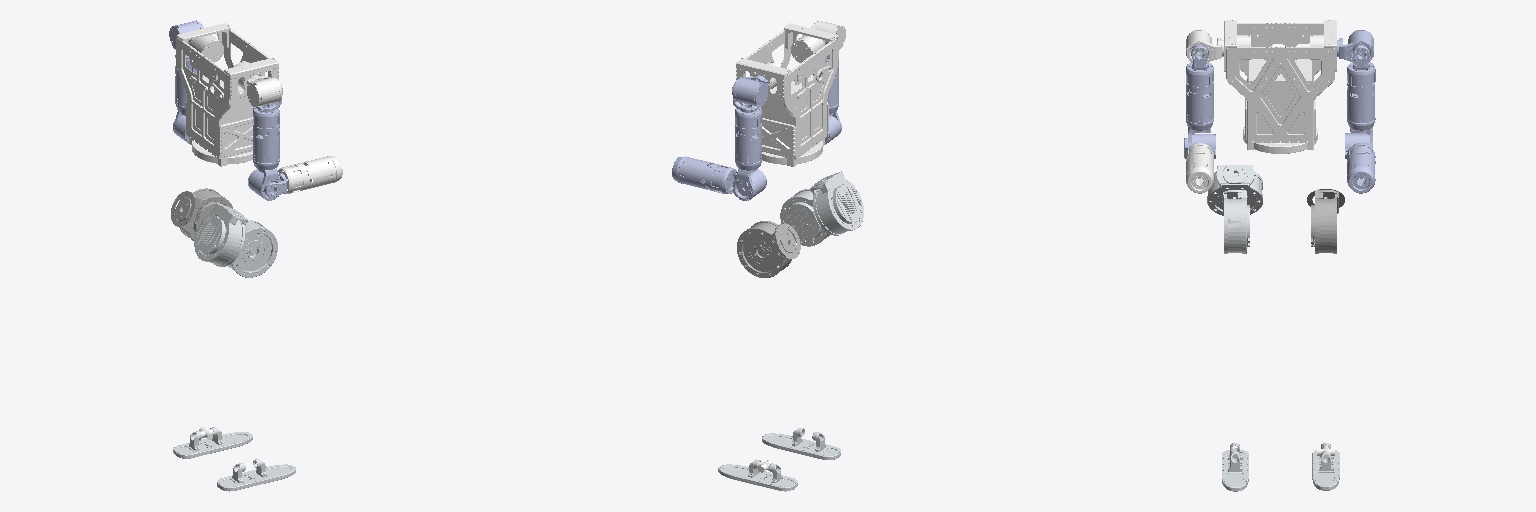
--- What the picture shows (computed from the rendered views, not written in the file) ---
3 views of the same robot in one strip: view 1: azimuth 30°, elevation 25°; view 2: azimuth 150°, elevation 25°; view 3: azimuth 270°, elevation 25° (orthographic).
Robot: atom_urdf_long — 24 links, 23 joints (23 revolute); root link base_link; default pose: every joint at zero.
Visible links, largest first — view 1: torso_link, right_thigh_yaw_link, right_arm_yaw_link, right_thigh_roll_link, left_thigh_roll_link, right_elbow_yaw_link, right_ankle_roll_link, left_ankle_roll_link, right_arm_pitch_link, left_arm_yaw_link; view 2: torso_link, left_thigh_roll_link, right_thigh_yaw_link, left_arm_yaw_link, left_elbow_yaw_link, right_thigh_roll_link, right_ankle_roll_link, left_ankle_roll_link, left_arm_pitch_link, right_arm_yaw_link; view 3: torso_link, left_arm_yaw_link, right_arm_yaw_link, right_thigh_yaw_link, left_thigh_roll_link, right_thigh_roll_link, left_elbow_yaw_link, right_elbow_yaw_link, right_ankle_roll_link, left_ankle_roll_link, right_arm_pitch_link, left_arm_pitch_link.
Boxes of the visible links, x1,y1,x2,y2 form: torso_link: (176, 23, 278, 166); right_thigh_yaw_link: (194, 203, 248, 266); right_arm_yaw_link: (248, 107, 280, 200); right_thigh_roll_link: (228, 220, 277, 277); left_thigh_roll_link: (171, 188, 232, 240); right_elbow_yaw_link: (277, 156, 342, 193); right_ankle_roll_link: (217, 459, 295, 491); left_ankle_roll_link: (173, 427, 252, 458); right_arm_pitch_link: (247, 75, 282, 106); left_arm_yaw_link: (173, 55, 196, 143); torso_link: (736, 23, 838, 166); left_thigh_roll_link: (737, 221, 800, 277); right_thigh_yaw_link: (810, 171, 863, 235); left_arm_yaw_link: (732, 107, 766, 200); left_elbow_yaw_link: (672, 156, 736, 193); right_thigh_roll_link: (780, 189, 830, 246); right_ankle_roll_link: (762, 428, 840, 459); left_ankle_roll_link: (718, 459, 797, 491); left_arm_pitch_link: (733, 75, 767, 106); right_arm_yaw_link: (813, 59, 841, 144); torso_link: (1224, 20, 1336, 153); left_arm_yaw_link: (1345, 62, 1375, 158); right_arm_yaw_link: (1186, 62, 1215, 158); right_thigh_yaw_link: (1207, 165, 1262, 215); left_thigh_roll_link: (1307, 189, 1344, 253); right_thigh_roll_link: (1223, 190, 1249, 253); left_elbow_yaw_link: (1347, 143, 1375, 193); right_elbow_yaw_link: (1186, 143, 1213, 193); right_ankle_roll_link: (1222, 443, 1248, 491); left_ankle_roll_link: (1312, 443, 1339, 490); right_arm_pitch_link: (1186, 30, 1223, 62); left_arm_pitch_link: (1337, 30, 1373, 62).
Size in the robot's own frame: 0.3186 by 0.421 by 1.06 metres.
Meshes: 24 distinct files referenced, 16 mesh visuals loaded (16 binary STL); not drawn: 8 (reference not matched to a file when rendering).

The robot description file, URDF, robot "atom_urdf_long":
<?xml version="1.0" encoding="utf-8"?>
<!-- This URDF was automatically created by SolidWorks to URDF Exporter! Originally created by Stephen Brawner ([email redacted]) 
     Commit Version: 1.6.0-4-g7f85cfe  Build Version: 1.6.7995.38578
     For more information, please see http://wiki.ros.org/sw_urdf_exporter -->
<robot
  name="atom_urdf_long">
  <link
    name="base_link">
   <inertial>
      <origin
        xyz="-0.04893 0 -0.01169"
        rpy="0 0 0" />
      <mass
        value="5.46006" />
      <inertia
        ixx="0.04329056049"
        ixy="-0.00000372920"
        ixz="-0.00147869904"
        iyy="0.01290223906"
        iyz="-0.00000208134"
        izz="0.04099568901" />
    </inertial>
    <visual>
      <origin
        xyz="0 0 0"
        rpy="0 0 0" />
      <geometry>
        <mesh
          filename="./meshes/base_link.STL" />
      </geometry>
      <material
        name="">
        <color
          rgba="0.898039215686275 0.917647058823529 0.929411764705882 1" />
      </material>
    </visual>
    <collision>
      <origin
        xyz="0 0 0"
        rpy="0 0 0" />
      <geometry>
        <mesh
          filename="./meshes/base_link.STL" />
      </geometry>
    </collision>
  </link>
  <link
    name="left_thigh_yaw_link">
   <inertial>
  <origin
    xyz="-0.03810 0 -0.05399"
    rpy="0 0 0" />
  <mass
    value="1.67364" />
  <inertia
    ixx="0.00319855281"
    ixy="-0.00000000774"
    ixz="-0.00072056094"
    iyy="0.00253584400"
    iyz="-0.00000002529"
    izz="0.00249365060" />
</inertial>
    <visual>
      <origin
        xyz="0 0 0"
        rpy="0 0 0" />
      <geometry>
        <mesh
          filename="./meshes/left_thigh_yaw_link.STL" />
      </geometry>
      <material
        name="">
        <color
          rgba="0.792156862745098 0.819607843137255 0.933333333333333 1" />
      </material>
    </visual>
    <!-- <collision>
      <origin
        xyz="0 0 0"
        rpy="0 0 0" />
      <geometry>
        <mesh
          filename="./meshes/left_thigh_yaw_link.STL" />
      </geometry>
    </collision> -->
  </link>
  <joint
    name="left_thigh_yaw_joint"
    type="revolute">
    <origin
      xyz="-0.070843 0.10009 -0.051345"
      rpy="0 0 0" />
    <parent
      link="base_link" />
    <child
      link="left_thigh_yaw_link" />
    <axis
      xyz="-0.5 0 -0.86603" />
 <limit
      lower="-1"
      upper="0.2"
      effort="80"
      velocity="10.47" />
  </joint>
  <link
    name="left_thigh_roll_link">
   <inertial>
  <origin
    xyz="0.05741 -0.00600 -0.03315"
    rpy="0 0 0" />
  <mass
    value="1.67349" />
  <inertia
    ixx="0.00216876959"
    ixy="0.00004755190"
    ixz="0.00021342539"
    iyy="0.00364901288"
    iyz="-0.00002746096"
    izz="0.00241527150" />
</inertial>
    <visual>
      <origin
        xyz="0 0 0"
        rpy="0 0 0" />
      <geometry>
        <mesh
          filename="./meshes/left_thigh_roll_link.STL" />
      </geometry>
      <material
        name="">
        <color
          rgba="0.752941176470588 0.752941176470588 0.752941176470588 1" />
      </material>
    </visual>
    <!-- <collision>
      <origin
        xyz="0 0 0"
        rpy="0 0 0" />
      <geometry>
        <mesh
          filename="./meshes/left_thigh_roll_link.STL" />
      </geometry>
    </collision> -->
  </link>
  <joint
    name="left_thigh_roll_joint"
    type="revolute">
    <origin
      xyz="-0.019425 0 -0.071346"
      rpy="0 0 0" />
    <parent
      link="left_thigh_yaw_link" />
    <child
      link="left_thigh_roll_link" />
    <axis
      xyz="0.86603 0 -0.5" />
    <limit
      lower="-0.2"
      upper="1"
      effort="80"
      velocity="10.47" />
  </joint>
  <link
    name="left_thigh_pitch_link">
   <inertial>
  <origin
    xyz="-0.00006 -0.01781 -0.19802"
    rpy="0 0 0" />
  <mass
    value="2.31922" />
  <inertia
    ixx="0.02007134402"
    ixy="-0.00000000137"
    ixz="-0.00000000313"
    iyy="0.02144913868"
    iyz="-0.00217970734"
    izz="0.00298030651" />
</inertial>
    <visual>
      <origin
        xyz="0 0 0"
        rpy="0 0 0" />
      <geometry>
        <mesh
          filename="./meshes/left_thigh_pitch_link.STL" />
      </geometry>
      <material
        name="">
        <color
          rgba="0.898039215686275 0.917647058823529 0.929411764705882 1" />
      </material>
    </visual>
  <collision>
      <origin
        xyz="0.0 0 -0.08"
        rpy="0 0 0" />
      <geometry>
        <box name="left_thigh_pitch_link" size="0.08 0.1 0.22"/>
      </geometry>
    </collision>
  </link>
  <joint
    name="left_thigh_pitch_joint"
    type="revolute">
    <origin
      xyz="0.0623538151339522 0.0193500079963393 -0.0360000241422042"
      rpy="0 0 0" />
    <parent
      link="left_thigh_roll_link" />
    <child
      link="left_thigh_pitch_link" />
    <axis
      xyz="0 1 0" />
    <limit
      lower="-1"
      upper="1"
      effort="80"
      velocity="10.47"/>
  </joint>
  <link
    name="left_knee_link">
   <inertial>
  <origin
    xyz="-0.00035 -0.01141 -0.15459"
    rpy="0 0 0" />
  <mass
    value="1.73050" />
  <inertia
    ixx="0.01090402337"
    ixy="0.00002096199"
    ixz="0.00003595470"
    iyy="0.01057709835"
    iyz="-0.00014644364"
    izz="0.00111782944" />
</inertial>
    <visual>
      <origin
        xyz="0 0 0"
        rpy="0 0 0" />
      <geometry>
        <mesh
          filename="./meshes/left_knee_link.STL" />
      </geometry>
      <material
        name="">
        <color
          rgba="0.898039215686275 0.917647058823529 0.929411764705882 1" />
      </material>
    </visual>
     <collision>
      <origin
        xyz="0.0 0 -0.15"
        rpy="0 0 0" />
      <geometry>
        <box name="left_knee_link" size="0.08 0.08 0.22"/>
      </geometry>
    </collision>
  </link>
  <joint
    name="left_knee_joint"
    type="revolute">
    <origin
      xyz="-5.71909387963032E-05 0 -0.249999999984666"
      rpy="0 0 0" />
    <parent
      link="left_thigh_pitch_link" />
    <child
      link="left_knee_link" />
    <axis
      xyz="0 1 0" />
    <limit
       lower="-0.2"
      upper="2.5"
      effort="80"
      velocity="10.47" />
  </joint>
  <link
    name="left_ankle_pitch_link">
   <inertial>
  <origin
    xyz="-0.02000 0 0"
    rpy="0 0 0" />
  <mass
    value="0.08400" />
  <inertia
    ixx="0.00000863055"
    ixy="0.00000000000"
    ixz="-0.00000000011"
    iyy="0.00000863055"
    iyz="0.00000000010"
    izz="0.00001447610" />
  </inertial>
    <visual>
      <origin
        xyz="0 0 0"
        rpy="0 0 0" />
      <geometry>
        <mesh
          filename="./meshes/left_ankle_pitch_link.STL" />
      </geometry>
      <material
        name="">
        <color
          rgba="1 1 1 1" />
      </material>
    </visual>
    <!-- <collision>
      <origin
        xyz="0 0 0"
        rpy="0 0 0" />
      <geometry>
        <mesh
          filename="./meshes/left_ankle_pitch_link.STL" />
      </geometry>
    </collision> -->
  </link>
  <joint
    name="left_ankle_pitch_joint"
    type="revolute">
    <origin
      xyz="0.0199999999548295 -0.0193500000002206 -0.300000000002996"
      rpy="0 0 0" />
    <parent
      link="left_knee_link" />
    <child
      link="left_ankle_pitch_link" />
    <axis
      xyz="0 1 0" />
    <limit
       lower="-0.6"
      upper="0.6"
      effort="18"
      velocity="3.7692"/>
  </joint>
  <link
    name="left_ankle_roll_link">
    <inertial>
  <origin
    xyz="-0.00869 0 -0.02743"
    rpy="0 0 0" />
  <mass
    value="0.20002" />
  <inertia
    ixx="0.00007950030"
    ixy="0.00000000210"
    ixz="0.00001015286"
    iyy="0.00052803619"
    iyz="-0.00000000023"
    izz="0.00056895061" />
</inertial>
    <visual>
      <origin
        xyz="0 0 0"
        rpy="0 0 0" />
      <geometry>
        <mesh
          filename="./meshes/left_ankle_roll_link.STL" />
      </geometry>
      <material
        name="">
        <color
          rgba="0.898039215686275 0.917647058823529 0.929411764705882 1" />
      </material>
    </visual>
    <collision>
      <origin
        xyz="0 0 0"
        rpy="0 0 0" />
      <geometry>
        <mesh
          filename="./meshes/left_ankle_roll_link.STL" />
      </geometry>
    </collision>
  </link>
  <joint
    name="left_ankle_roll_joint"
    type="revolute">
    <origin
      xyz="0 0 0"
      rpy="0 0 0" />
    <parent
      link="left_ankle_pitch_link" />
    <child
      link="left_ankle_roll_link" />
    <axis
      xyz="1 0 0" />
    <limit
      lower="-0.5"
      upper="0.5"
      effort="18"
      velocity="3.7692" />
  </joint>
  <link
    name="right_thigh_yaw_link">
   <inertial>
  <origin
    xyz="-0.03785 0 -0.05356"
    rpy="0 0 0" />
  <mass
    value="1.67349" />
  <inertia
    ixx="0.00319822705"
    ixy="-0.00000000774"
    ixz="-0.00072024725"
    iyy="0.00253514063"
    iyz="-0.00000002529"
    izz="0.00249301189" />
</inertial>
    <visual>
      <origin
        xyz="0 0 0"
        rpy="0 0 0" />
      <geometry>
        <mesh
          filename="./meshes/right_thigh_yaw_link.STL" />
      </geometry>
      <material
        name="">
        <color
          rgba="0.898039215686275 0.917647058823529 0.929411764705882 1" />
      </material>
    </visual>
    <!-- <collision>
      <origin
        xyz="0 0 0"
        rpy="0 0 0" />
      <geometry>
        <mesh
          filename="./meshes/right_thigh_yaw_link.STL" />
      </geometry>
    </collision> -->
  </link>
  <joint
    name="right_thigh_yaw_joint"
    type="revolute">
    <origin
      xyz="-0.071093 -0.099911 -0.051778"
      rpy="0 0 0" />
    <parent
      link="base_link" />
    <child
      link="right_thigh_yaw_link" />
    <axis
      xyz="-0.5 0 -0.86603" />
    <limit
       lower="-0.2"
      upper="1"
      effort="80"
      velocity="10.47" />
  </joint>
  <link
    name="right_thigh_roll_link">
    <inertial>
  <origin
    xyz="0.05698 0.00600 -0.03290"
    rpy="0 0 0" />
  <mass
    value="1.67349" />
  <inertia
    ixx="0.00216881421"
    ixy="-0.00004755784"
    ixz="0.00021345115"
    iyy="0.00364901288"
    iyz="0.00002745068"
    izz="0.00241522687" />
</inertial>
    <visual>
      <origin
        xyz="0 0 0"
        rpy="0 0 0" />
      <geometry>
        <mesh
          filename="./meshes/right_thigh_roll_link.STL" />
      </geometry>
      <material
        name="">
        <color
          rgba="0.898039215686275 0.917647058823529 0.929411764705882 1" />
      </material>
    </visual>
    <!-- <collision>
      <origin
        xyz="0 0 0"
        rpy="0 0 0" />
      <geometry>
        <mesh
          filename="./meshes/right_thigh_roll_link.STL" />
      </geometry>
    </collision> -->
  </link>
  <joint
    name="right_thigh_roll_joint"
    type="revolute">
    <origin
      xyz="-0.018742408447476 0 -0.0711628036658393"
      rpy="0 0 0" />
    <parent
      link="right_thigh_yaw_link" />
    <child
      link="right_thigh_roll_link" />
    <axis
      xyz="0.866025403709328 0 -0.500000000130096" />
    <limit
      lower="-1"
      upper="0.2"
      effort="80"
      velocity="10.47"/>
  </joint>
  <link
    name="right_thigh_pitch_link">
    <inertial>
  <origin
    xyz="0.00000 0.01781 -0.19802"
    rpy="0 0 0" />
  <mass
    value="2.31922" />
  <inertia
    ixx="0.02007134402"
    ixy="-0.00000000137"
    ixz="0.00000000313"
    iyy="0.02144913868"
    iyz="0.00217970734"
    izz="0.00298030651" />
</inertial>
    <visual>
      <origin
        xyz="0 0 0"
        rpy="0 0 0" />
      <geometry>
        <mesh
          filename="./meshes/right_thigh_pitch_link.STL" />
      </geometry>
      <material
        name="">
        <color
          rgba="0.898039215686275 0.917647058823529 0.929411764705882 1" />
      </material>
    </visual>
     <collision>
      <origin
        xyz="0.0 0 -0.08"
        rpy="0 0 0" />
      <geometry>
        <box name="right_thigh_pitch_link" size="0.08 0.1 0.22"/>
      </geometry>
    </collision>
  </link>
  <joint
    name="right_thigh_pitch_joint"
    type="revolute">
    <origin
      xyz="0.0619208163651855 -0.0193500000000049 -0.0357500000093318"
      rpy="0 0 0" />
    <parent
      link="right_thigh_roll_link" />
    <child
      link="right_thigh_pitch_link" />
    <axis
      xyz="0 1 0" />
    <limit
      lower="-1"
      upper="1"
      effort="80"
      velocity="10.47"/>
  </joint>
  <link
    name="right_knee_link">
  <inertial>
  <origin
    xyz="-0.00034 0.01141 -0.15001"
    rpy="0 0 0" />
  <mass
    value="1.74926" />
  <inertia
    ixx="0.01208353465"
    ixy="-0.00002097159"
    ixz="0.00002792883"
    iyy="0.01179278549"
    iyz="0.00024593306"
    izz="0.00113580864" />
</inertial>
    <visual>
      <origin
        xyz="0 0 0"
        rpy="0 0 0" />
      <geometry>
        <mesh
          filename="./meshes/right_knee_link.STL" />
      </geometry>
      <material
        name="">
        <color
          rgba="0.898039215686275 0.917647058823529 0.929411764705882 1" />
      </material>
    </visual>
       <collision>
      <origin
        xyz="0.0 0 -0.15"
        rpy="0 0 0" />
      <geometry>
        <box name="right_knee_link" size="0.08 0.08 0.22"/>
      </geometry>
    </collision>
  </link>
  <joint
    name="right_knee_joint"
    type="revolute">
    <origin
      xyz="0 0 -0.249999999984727"
      rpy="0 0 0" />
    <parent
      link="right_thigh_pitch_link" />
    <child
      link="right_knee_link" />
    <axis
      xyz="0 1 0" />
    <limit
       lower="-0.2"
      upper="2.5"
      effort="80"
      velocity="10.47" />
  </joint>
  <link
    name="right_ankle_pitch_link">
    <inertial>
  <origin
    xyz="-0.02000 0 0"
    rpy="0 0 0" />
  <mass
    value="0.08400" />
  <inertia
    ixx="0.00000863055"
    ixy="0.00000000000"
    ixz="0.00000000011"
    iyy="0.00000863055"
    iyz="-0.00000000010"
    izz="0.00001447610" />
</inertial>
    <visual>
      <origin
        xyz="0 0 0"
        rpy="0 0 0" />
      <geometry>
        <mesh
          filename="./meshes/right_ankle_pitch_link.STL" />
      </geometry>
      <material
        name="">
        <color
          rgba="1 1 1 1" />
      </material>
    </visual>
    <!-- <collision>
      <origin
        xyz="0 0 0"
        rpy="0 0 0" />
      <geometry>
        <mesh
          filename="./meshes/right_ankle_pitch_link.STL" />
      </geometry>
    </collision> -->
  </link>
  <joint
    name="right_ankle_pitch_joint"
    type="revolute">
    <origin
      xyz="0.019999999955032 0.0193499999997858 -0.300000000003003"
      rpy="0 0 0" />
    <parent
      link="right_knee_link" />
    <child
      link="right_ankle_pitch_link" />
    <axis
      xyz="0 1 0" />
    <limit
     lower="-0.6"
      upper="0.6"
      effort="18"
      velocity="3.7692" />
  </joint>
  <link
    name="right_ankle_roll_link">
    <inertial>
  <origin
    xyz="-0.00869 0 -0.02894"
    rpy="0 0 0" />
  <mass
    value="0.20002" />
  <inertia
    ixx="0.00008235737"
    ixy="0.00000000210"
    ixz="0.00001125978"
    iyy="0.00053089326"
    iyz="-0.00000000024"
    izz="0.00056895061" />
</inertial>
    <visual>
      <origin
        xyz="0 0 0"
        rpy="0 0 0" />
      <geometry>
        <mesh
          filename="./meshes/right_ankle_roll_link.STL" />
      </geometry>
      <material
        name="">
        <color
          rgba="0.898039215686275 0.917647058823529 0.929411764705882 1" />
      </material>
    </visual>
    <collision>
      <origin
        xyz="0 0 0"
        rpy="0 0 0" />
      <geometry>
        <mesh
          filename="./meshes/right_ankle_roll_link.STL" />
      </geometry>
    </collision>
  </link>
  <joint
    name="right_ankle_roll_joint"
    type="revolute">
    <origin
      xyz="0 0 0"
      rpy="0 0 0" />
    <parent
      link="right_ankle_pitch_link" />
    <child
      link="right_ankle_roll_link" />
    <axis
      xyz="1 0 0" />
    <limit
      lower="-0.5"
      upper="0.5"
      effort="18"
      velocity="3.7692" />
  </joint>
 <link
    name="torso_link">
    <inertial>
      <origin
        xyz=" -0.00232713 -0.00003499 0.09671181"
        rpy="0 0 0" />
      <mass
        value="7.70005232 " />
       <inertia ixx="0.14285885" ixy="-0.00004101" ixz="0.00400640"
           iyy="0.13043257" iyz="0.00003257"
           izz="0.03968469"/>
    </inertial>
    <visual>
      <origin
        xyz="0 0 0"
        rpy="0 0 0" />
      <geometry>
        <mesh
          filename="./meshes/torso_link.STL" />
      </geometry>
      <material
        name="">
        <color
          rgba="1 1 1 1" />
      </material>
    </visual>
    <collision>
      <origin
        xyz="0 0 0.13"
        rpy="0 0 0" />
      <geometry>
        <box name="torso_link" size="0.16 0.16 0.22"/>
      </geometry>
    </collision>
  </link>
  <joint
    name="torso_joint"
    type="revolute">
    <origin
      xyz="-0.0281649492242451 0 0.0672000000054882"
      rpy="0 0 0" />
    <parent
      link="base_link" />
    <child
      link="torso_link" />
    <axis
      xyz="0 0 1" />
    <limit
      lower="-3.14"
      upper="3.14"
      effort="80"
      velocity="10.47" />
  </joint>
  <link
    name="left_arm_pitch_link">
    <inertial>
    <mass value="0.47178757"/>
    <origin xyz="-0.00442275 0.04993792 0.00005596" rpy="0 0 0"/>
    <inertia ixx="0.00133228" ixy="0.00012643" ixz="-0.00000056"
             iyy="0.00008982" iyz="-0.00000148"
             izz="0.00137408"/>
    </inertial>
    <visual>
      <origin
        xyz="0 0 0"
        rpy="0 0 0" />
      <geometry>
        <mesh
          filename="./meshes/left_arm_pitch_link.STL" />
      </geometry>
      <material
        name="">
        <color
          rgba="0.796078431372549 0.823529411764706 0.937254901960784 1" />
      </material>
    </visual>
    <collision>
      <origin
        xyz="0 0.055 0"
        rpy="0 1.57 0" />
      <geometry>
         <cylinder radius="0.03" length="0.05"/>
      </geometry>
    </collision>
  </link>
  <joint
    name="left_arm_pitch_joint"
    type="revolute">
    <origin
      xyz="0 0.121749999999383 0.206175860782433"
      rpy="0 0 0" />
    <parent
      link="torso_link" />
    <child
      link="left_arm_pitch_link" />
    <axis
      xyz="0 1 0" />
    <limit
      lower="-3.14"
      upper="1.57"
      effort="18"
      velocity="3.7692" />
  </joint>
  <link
    name="left_arm_roll_link">
    <inertial>
      <origin
        xyz="-0.00433076 0 -0.02378501"
        rpy="0 0 0" />
      <mass
        value="0.09168685" />
     <inertia ixx="0.00010210" ixy="0.0" ixz="-0.00002948"
           iyy="0.00011636" iyz="0.0"
           izz="0.00003231"/>
    </inertial>
    <visual>
      <origin
        xyz="0 0 0"
        rpy="0 0 0" />
      <geometry>
        <mesh
          filename="./meshes/left_arm_roll_link.STL" />
      </geometry>
      <material
        name="">
        <color
          rgba="0.796078431372549 0.823529411764706 0.937254901960784 1" />
      </material>
    </visual>
    <collision>
      <origin
        xyz="-0.02 0 -0.12"
        rpy="0 0 0" />
      <geometry>
         <cylinder radius="0.03" length="0.10"/>
      </geometry>
    </collision>
  </link>
  <joint
    name="left_arm_roll_joint"
    type="revolute">
    <origin
      xyz="0.0200000000000018 0.056 0"
      rpy="0 0 0" />
    <parent
      link="left_arm_pitch_link" />
    <child
      link="left_arm_roll_link" />
    <axis
      xyz="1 0 0" />
    <limit
      lower="-0.25"
      upper="3.14"
      effort="18"
      velocity="3.7692" />
  </joint>
  <link
    name="left_arm_yaw_link">
    <inertial>
    <mass value="1.15324429"/>
    <origin xyz="-0.00004328 -0.00182110 -0.10615897" rpy="0 0 0"/>
    <inertia ixx="0.01919610" ixy="-0.00000011" ixz="-0.00000607"
             iyy="0.01915491" iyz="-0.00040415"
             izz="0.00033463"/>
    </inertial>
    <visual>
      <origin
        xyz="0 0 0"
        rpy="0 0 0" />
      <geometry>
        <mesh
          filename="./meshes/left_arm_yaw_link.STL" />
      </geometry>
      <material
        name="">
        <color
          rgba="0.796078431372549 0.823529411764706 0.937254901960784 1" />
      </material>
    </visual>
    <collision>
      <origin
        xyz="0 0 -0.19"
        rpy="0 1.57 1.57" />
      <geometry>
        <cylinder radius="0.03" length="0.05"/>
      </geometry>
    </collision>
  </link>
  <joint
    name="left_arm_yaw_joint"
    type="revolute">
    <origin
      xyz="-0.0200000000000002 0 -0.049999999999998"
      rpy="0 0 0" />
    <parent
      link="left_arm_roll_link" />
    <child
      link="left_arm_yaw_link" />
    <axis
      xyz="0 0 -1" />
    <limit
      lower="-1.57"
      upper="1.57"
      effort="18"
      velocity="3.7692" />
  </joint>
  <link
    name="left_elbow_pitch_link">
    <inertial>
      <origin
        xyz="0.02378501 -0.00433076  0.00000000"
        rpy="0 0 0" />
      <mass
        value="0.09168685" />
       <inertia ixx="0.00003231" ixy="0.00002948" ixz="0.0"
           iyy="0.00010210" iyz="0.0"
           izz="0.00011636"/>
    </inertial>
    <visual>
      <origin
        xyz="0 0 0"
        rpy="0 0 0" />
      <geometry>
        <mesh
          filename="./meshes/left_elbow_pitch_link.STL" />
      </geometry>
      <material
        name="">
        <color
          rgba="0.796078431372549 0.823529411764706 0.937254901960784 1" />
      </material>
    </visual>
    <collision>
      <origin
        xyz="0.10 -0.02 0"
        rpy="0 1.57 0" />
      <geometry>
          <cylinder radius="0.03" length="0.10"/>
      </geometry>
    </collision>
  </link>
  <joint
    name="left_elbow_pitch_joint"
    type="revolute">
    <origin
      xyz="0 0.0199999999999982 -0.188749999999997"
      rpy="0 0 0" />
    <parent
      link="left_arm_yaw_link" />
    <child
      link="left_elbow_pitch_link" />
    <axis
      xyz="0 1 0" />
    <limit
      lower="-0.6"
      upper="1.57"
      effort="18"
      velocity="3.7692" />
  </joint>
  <link
    name="left_elbow_yaw_link">
    <inertial>
    <mass value="0.68145673"/>
    <origin xyz="0.05317629 -0.00003450 -0.00001992" rpy="0 0 0"/>
    <inertia ixx="0.00024481" ixy="0.00000117" ixz="0.00000058"
             iyy="0.00325259" iyz="-0.00000060"
             izz="0.00325345"/>
    </inertial>
    <visual>
      <origin
        xyz="0 0 0"
        rpy="0 0 0" />
      <geometry>
        <mesh
          filename="./meshes/left_elbow_yaw_link.STL" />
      </geometry>
      <material
        name="">
        <color
          rgba="0.796078431372549 0.823529411764706 0.937254901960784 1" />
      </material>
    </visual>
    <!-- <collision>
      <origin
        xyz="0 0 0"
        rpy="0 0 0" />
      <geometry>
        <mesh
          filename="./meshes/left_elbow_yaw_link.STL" />
      </geometry>
    </collision> -->
  </link>
  <joint
    name="left_elbow_yaw_joint"
    type="revolute">
    <origin
      xyz="0.0499999999999968 -0.0199999999999994 0"
      rpy="0 0 0" />
    <parent
      link="left_elbow_pitch_link" />
    <child
      link="left_elbow_yaw_link" />
    <axis
      xyz="1 0 0" />
    <limit
      lower="-1.57"
      upper="1.57"
      effort="18"
      velocity="3.7692" />
  </joint>
  <link
    name="right_arm_pitch_link">
    <inertial>
    <mass value="0.47178757"/>
    <origin xyz="-0.00442275 -0.04993792 0.00005596" rpy="0 0 0"/>
    <inertia ixx="0.00133228" ixy="-0.00012643" ixz="-0.00000056"
             iyy="0.00008982" iyz="0.00000148"
             izz="0.00137408"/>
    </inertial>
    <visual>
      <origin
        xyz="0 0 0"
        rpy="0 0 0" />
      <geometry>
        <mesh
          filename="./meshes/right_arm_pitch_link.STL" />
      </geometry>
      <material
        name="">
        <color
          rgba="1 1 1 1" />
      </material>
    </visual>
    <collision>
      <origin
        xyz="0 -0.055 0"
        rpy="0 1.57 0" />
      <geometry>
         <cylinder radius="0.03" length="0.05"/>
      </geometry>
    </collision>
  </link>
  <joint
    name="right_arm_pitch_joint"
    type="revolute">
    <origin
      xyz="0 -0.121750000000346 0.206175860781721"
      rpy="0 0 0" />
    <parent
      link="torso_link" />
    <child
      link="right_arm_pitch_link" />
    <axis
      xyz="0 1 0" />
    <limit
      lower="-3.14"
      upper="1.57"
      effort="18"
      velocity="3.7692" />
  </joint>
  <link
    name="right_arm_roll_link">
    <inertial>
      <origin
        xyz="-0.00433076 0.00000000  -0.02378501"
        rpy="0 0 0" />
      <mass
        value="0.09168685" />
 <inertia ixx="0.00010210" ixy="0.0" ixz="-0.00002948"
           iyy="0.00011636" iyz="0.0"
           izz="0.00003231"/>
    </inertial>
    <visual>
      <origin
        xyz="0 0 0"
        rpy="0 0 0" />
      <geometry>
        <mesh
          filename="./meshes/right_arm_roll_link.STL" />
      </geometry>
      <material
        name="">
        <color
          rgba="0.796078431372549 0.823529411764706 0.937254901960784 1" />
      </material>
    </visual>
     <collision>
      <origin
        xyz="-0.02 0 -0.12"
        rpy="0 0 0" />
      <geometry>
         <cylinder radius="0.03" length="0.10"/>
      </geometry>
    </collision>
  </link>
  <joint
    name="right_arm_roll_joint"
    type="revolute">
    <origin
      xyz="0.0200000000000407 -0.056 0"
      rpy="0 0 0" />
    <parent
      link="right_arm_pitch_link" />
    <child
      link="right_arm_roll_link" />
    <axis
      xyz="1 0 0" />
    <limit
      lower="-3.14"
      upper="0.25"
      effort="18"
      velocity="3.7692" />
  </joint>
  <link
    name="right_arm_yaw_link">
    <inertial>
    <mass value="1.15324429"/>
    <origin xyz="-0.00002289 0.00183287 -0.10615897" rpy="0 0 0"/>
    <inertia ixx="0.01919714" ixy="-0.00000049" ixz="-0.00000506"
             iyy="0.01915387" iyz="0.00040473"
             izz="0.00033463"/>
    </inertial>
    <visual>
      <origin
        xyz="0 0 0"
        rpy="0 0 0" />
      <geometry>
        <mesh
          filename="./meshes/right_arm_yaw_link.STL" />
      </geometry>
      <material
        name="">
        <color
          rgba="0.796078431372549 0.823529411764706 0.937254901960784 1" />
      </material>
    </visual>
    <collision>
      <origin
        xyz="0 0 -0.19"
        rpy="0 1.57 1.57" />
      <geometry>
        <cylinder radius="0.03" length="0.05"/>
      </geometry>
    </collision>
  </link>
  <joint
    name="right_arm_yaw_joint"
    type="revolute">
    <origin
      xyz="-0.02 0 -0.0500000000000019"
      rpy="0 0 0" />
    <parent
      link="right_arm_roll_link" />
    <child
      link="right_arm_yaw_link" />
    <axis
      xyz="0 0 -1" />
    <limit
      lower="-1.57"
      upper="1.57"
      effort="18"
      velocity="3.7692" />
  </joint>
  <link
    name="right_elbow_pitch_link">
    <inertial>
      <origin
        xyz="0.02378501  0.00433076 0"
        rpy="0 0 0" />
      <mass
        value="0.09168685" />
      <inertia ixx="0.00003231" ixy="-0.00002948" ixz="0.0"
           iyy="0.00010210" iyz="0.0"
           izz="0.00011636"/>
    </inertial>
    <visual>
      <origin
        xyz="0 0 0"
        rpy="0 0 0" />
      <geometry>
        <mesh
          filename="./meshes/right_elbow_pitch_link.STL" />
      </geometry>
      <material
        name="">
        <color
          rgba="0.796078431372549 0.823529411764706 0.937254901960784 1" />
      </material>
    </visual>
    <collision>
      <origin
        xyz="0.10 0.02 0"
        rpy="0 1.57 0" />
      <geometry>
          <cylinder radius="0.03" length="0.10"/>
      </geometry>
    </collision>
  </link>
  <joint
    name="right_elbow_pitch_joint"
    type="revolute">
    <origin
      xyz="0 -0.0200000000000019 -0.18875"
      rpy="0 0 0" />
    <parent
      link="right_arm_yaw_link" />
    <child
      link="right_elbow_pitch_link" />
    <axis
      xyz="0 1 0" />
    <limit
      lower="-0.6"
      upper="1.57"
      effort="18"
      velocity="3.7692" />
  </joint>
  <link
    name="right_elbow_yaw_link">
    <inertial>
    <mass value="0.68145673"/>
    <origin xyz="0.05317629 0.00003450 0.00001992" rpy="0 0 0"/>
    <inertia ixx="0.00024481" ixy="-0.00000117" ixz="-0.00000058"
             iyy="0.00325259" iyz="-0.00000060"
             izz="0.00325345"/>
    </inertial>
    <visual>
      <origin
        xyz="0 0 0"
        rpy="0 0 0" />
      <geometry>
        <mesh
          filename="./meshes/right_elbow_yaw_link.STL" />
      </geometry>
      <material
        name="">
        <color
          rgba="1 1 1 1" />
      </material>
    </visual>
    <!-- <collision>
      <origin
        xyz="0 0 0"
        rpy="0 0 0" />
      <geometry>
        <mesh
          filename="./meshes/right_elbow_yaw_link.STL" />
      </geometry>
    </collision> -->
  </link>
  <joint
    name="right_elbow_yaw_joint"
    type="revolute">
    <origin
      xyz="0.0500000000000002 0.0200000000000004 0"
      rpy="0 0 0" />
    <parent
      link="right_elbow_pitch_link" />
    <child
      link="right_elbow_yaw_link" />
    <axis
      xyz="1 0 0" />
    <limit
      lower="-1.57"
      upper="1.57"
      effort="18"
      velocity="3.7692" />
  </joint>
</robot>
